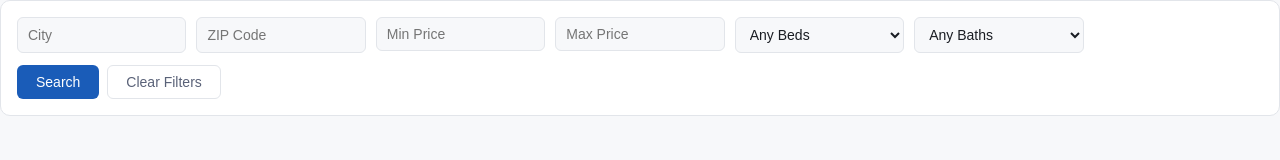
PropertyFilters › clears the price error message when Clear Filters is clicked
Type "900000" into the number field with placeholder "Min Price" at (460, 34), box [376,17,545,51]
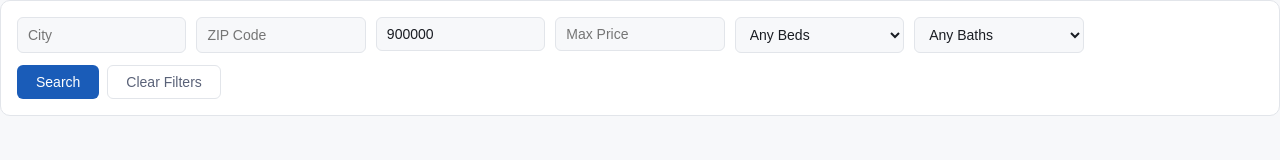
Type "100000" into the number field with placeholder "Max Price" at (640, 34), box [555,17,725,51]
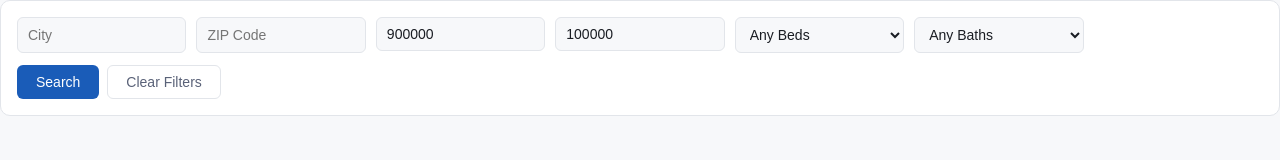
Click the button "Search" at (58, 82), box [17,65,99,99]
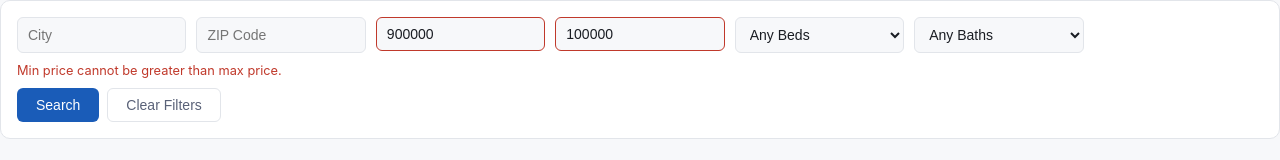
Check: the message "Min price cannot be greater than max price." is shown, box [17,63,282,78]
Click the button "Clear Filters" at (164, 105), box [107,88,221,122]
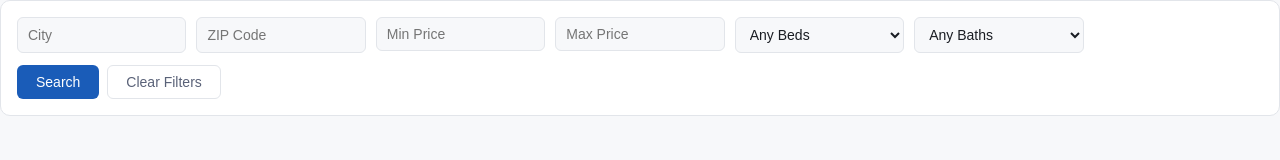
Check: the message "Min price cannot be greater than max price." is gone
